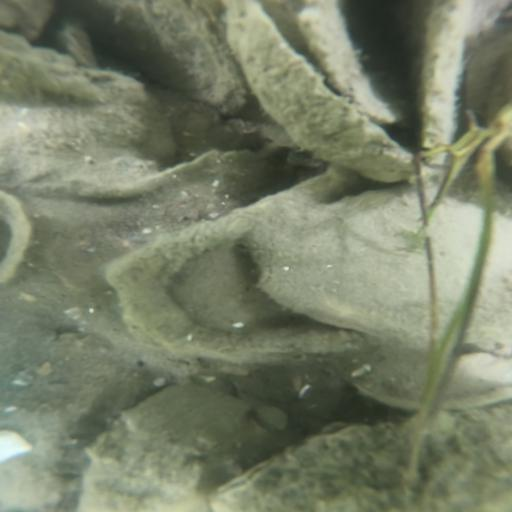Oyster-Closed: (219, 402, 512, 512), (251, 192, 428, 346), (1, 40, 165, 179), (82, 386, 242, 512), (77, 3, 249, 112), (299, 2, 415, 124), (430, 181, 511, 354), (2, 451, 59, 512)
